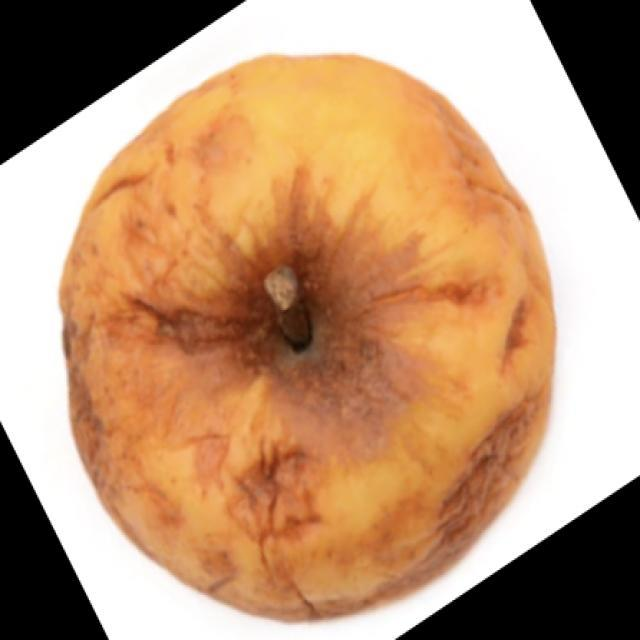Rotten: (76, 61, 562, 612)
